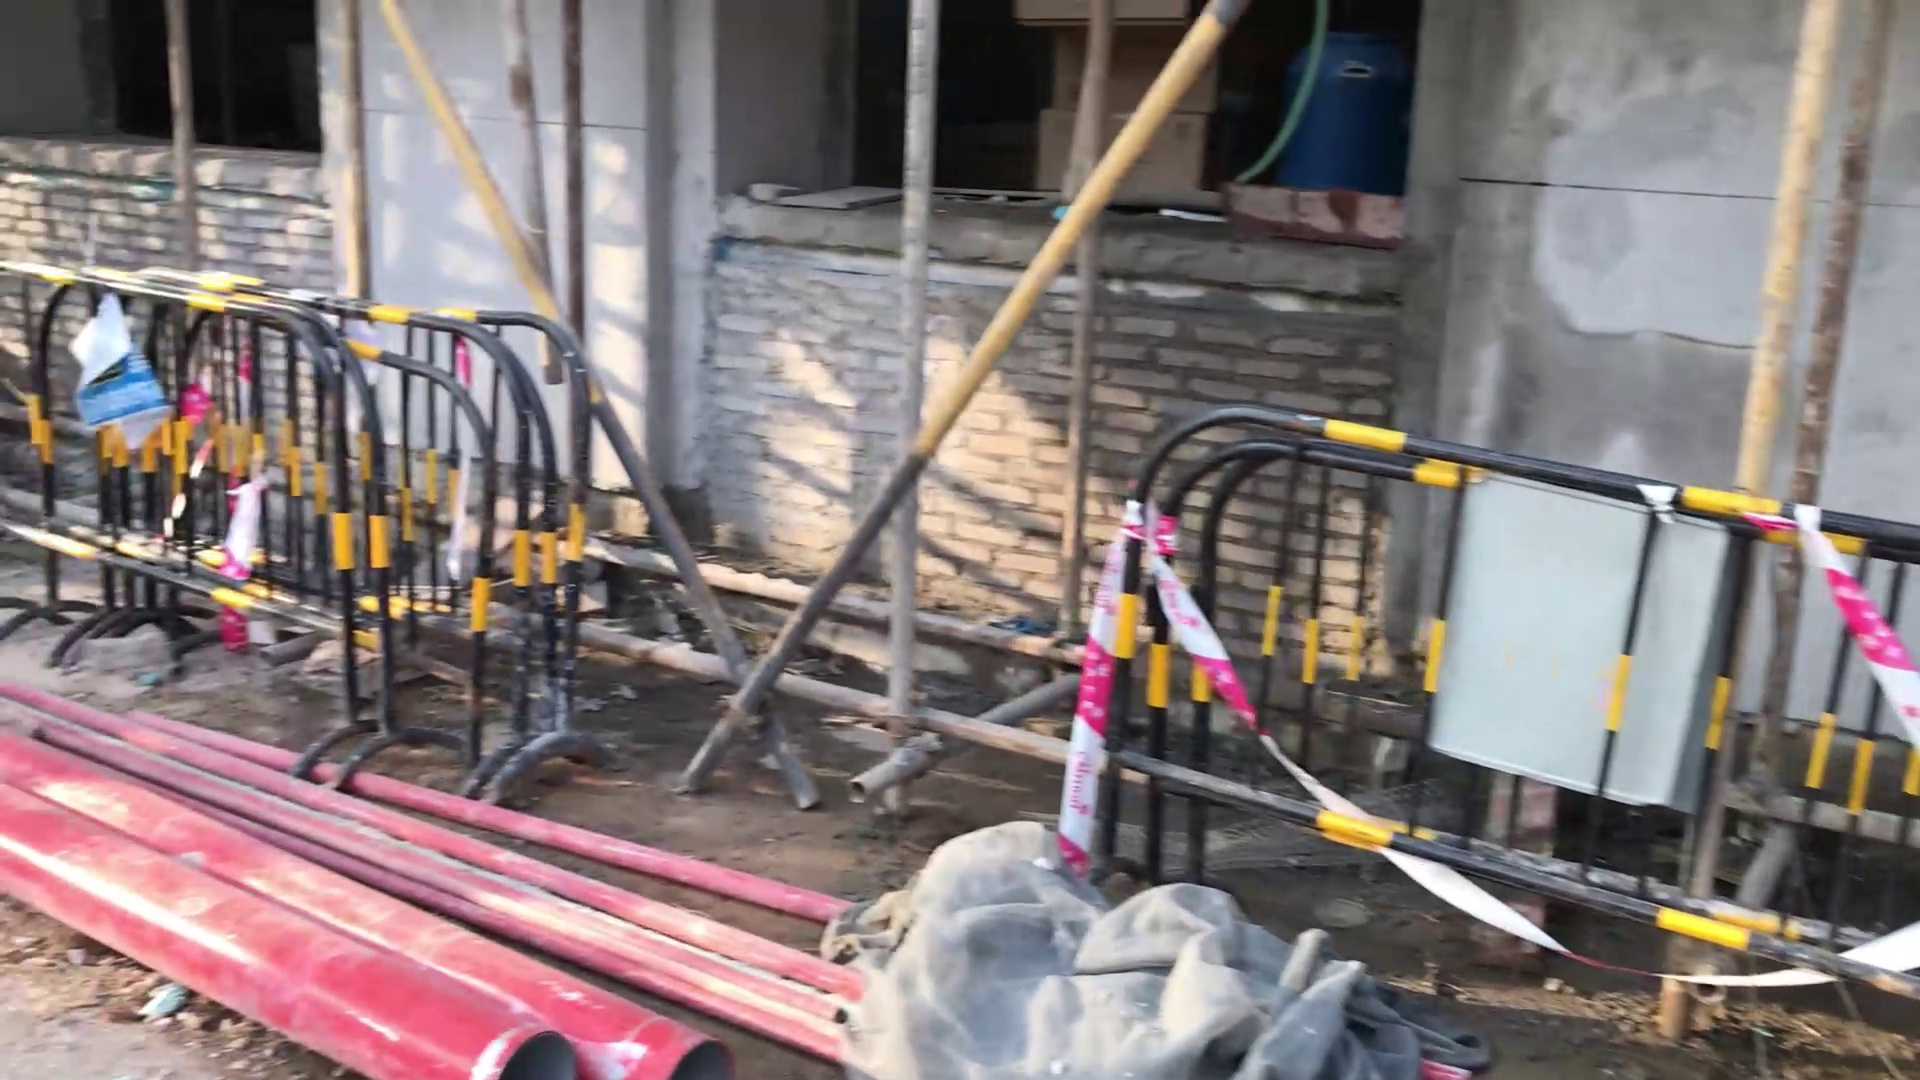fence: (1048, 400, 1920, 1001), (1, 262, 632, 807)
